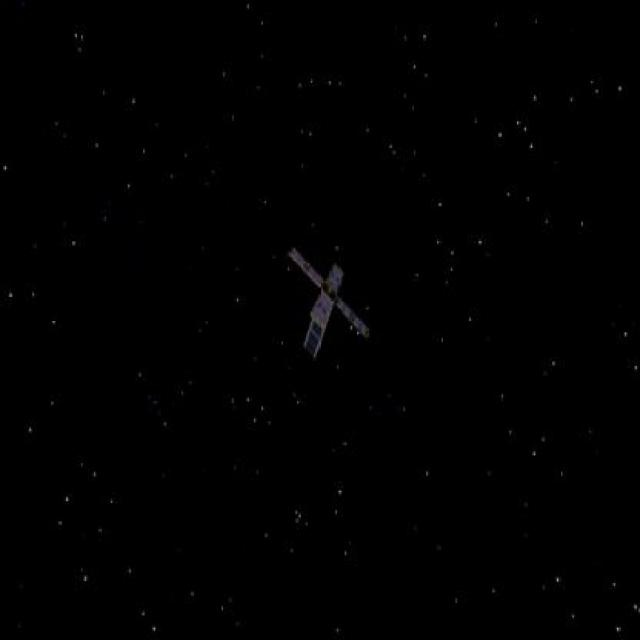medium_debris: (285, 238, 373, 375)
